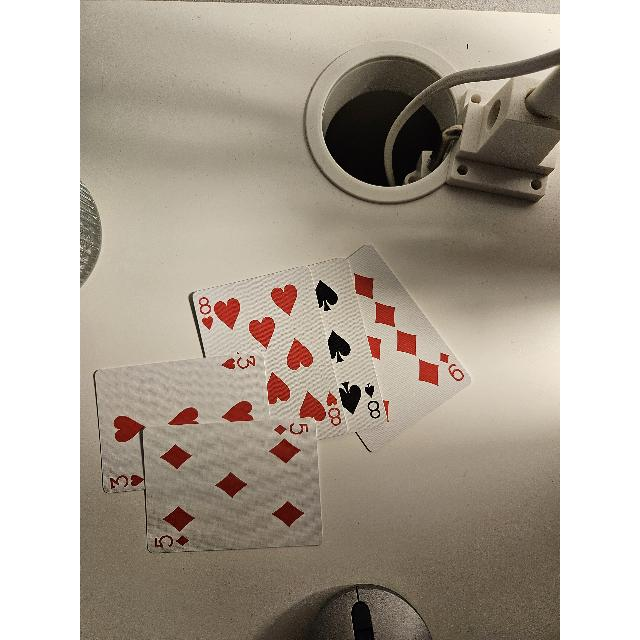3H: (109, 470, 143, 488), (221, 356, 259, 369)
5D: (150, 532, 193, 550), (271, 418, 311, 436)
8H: (324, 388, 344, 428), (196, 296, 218, 332)
8S: (366, 379, 382, 421)
9D: (439, 349, 467, 383)
